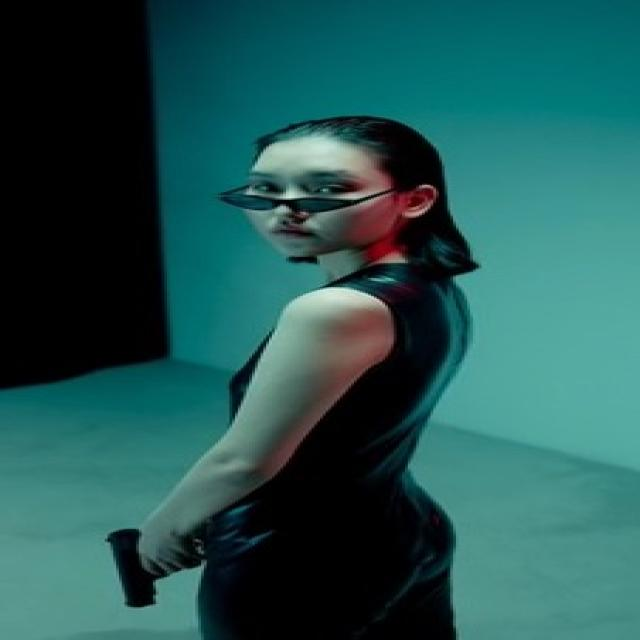Gun_Holder: (58, 517, 225, 615)
Person: (153, 114, 521, 640)
